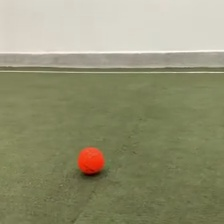ball: (76, 144, 104, 177)
